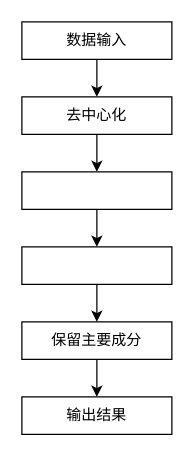
Some shapes in this 194 by 456 pixel diagram are drawn without their labels. The box of each missing label's shape, as (x1, y1, x2, y2) in pixels:
求协方差矩阵: (21, 171, 172, 209)
求特征值，特征矩阵: (21, 246, 172, 284)
